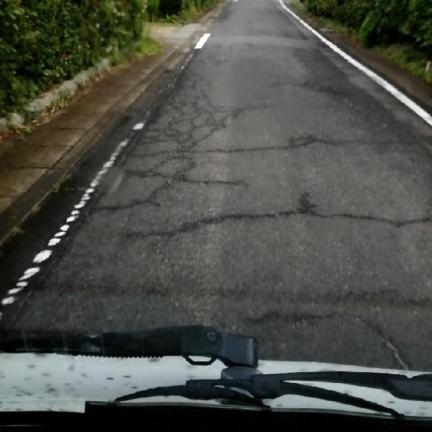Road: (2, 0, 431, 369)
